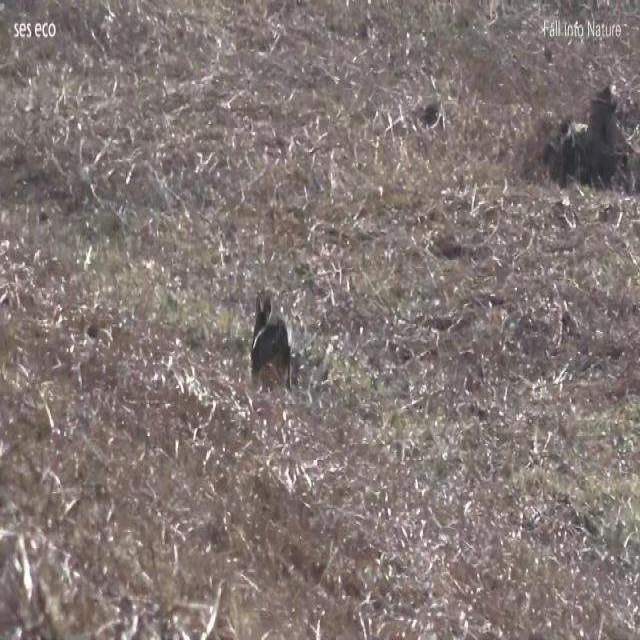deer: (250, 292, 293, 391)
